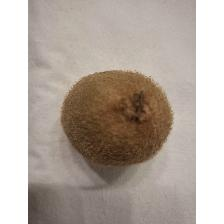Kiwi: (58, 66, 180, 170)
